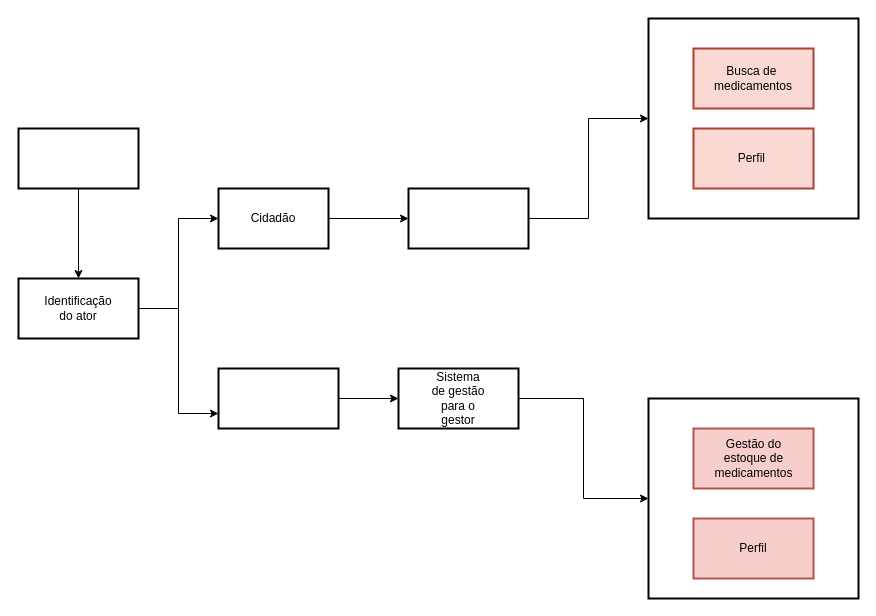
Image size: 876x616. Some labels were removed from this diagram. Each missing label, with the centre of its shape:
Gestor do posto de saúde: point 278,398
Sistema de gestão para o cidadão: point 468,218
Sistema de visão: point 78,158
